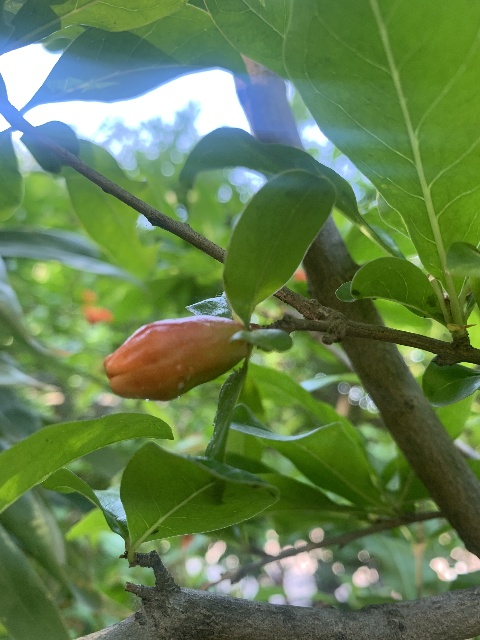bud: (103, 314, 248, 401)
